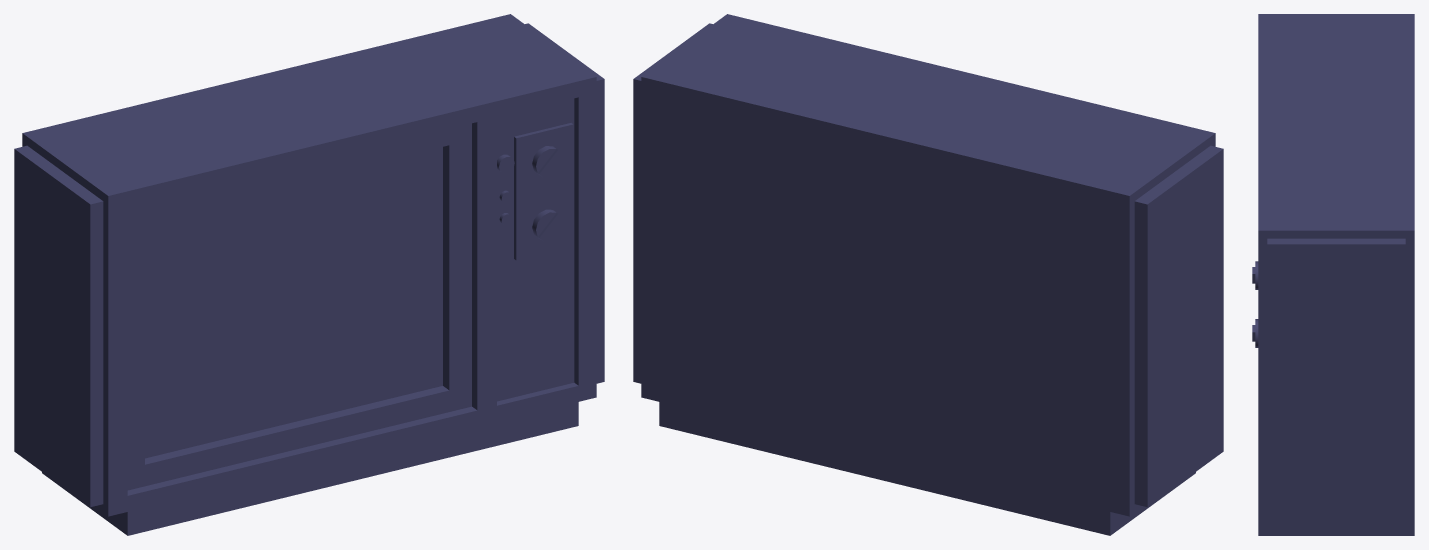
The model's file is TV_Updated.fbx.
3 renders of one model, left to right at view 1: azimuth 30°, elevation 25°; view 2: azimuth 150°, elevation 25°; view 3: azimuth 270°, elevation 25°, orthographic. The views are drawn at different scales.
Visible parts, largest first — view 1: TV_screen, TV_01; view 2: TV_screen; view 3: TV_screen.
Part boxes in pixels (left/top/right/bottom): TV_screen: left=14, top=14, right=604, bottom=535; TV_01: left=514, top=123, right=573, bottom=260; TV_screen: left=633, top=14, right=1223, bottom=535; TV_screen: left=1258, top=14, right=1414, bottom=535.
Size of the model in its own units: 375 by 240 by 113.
